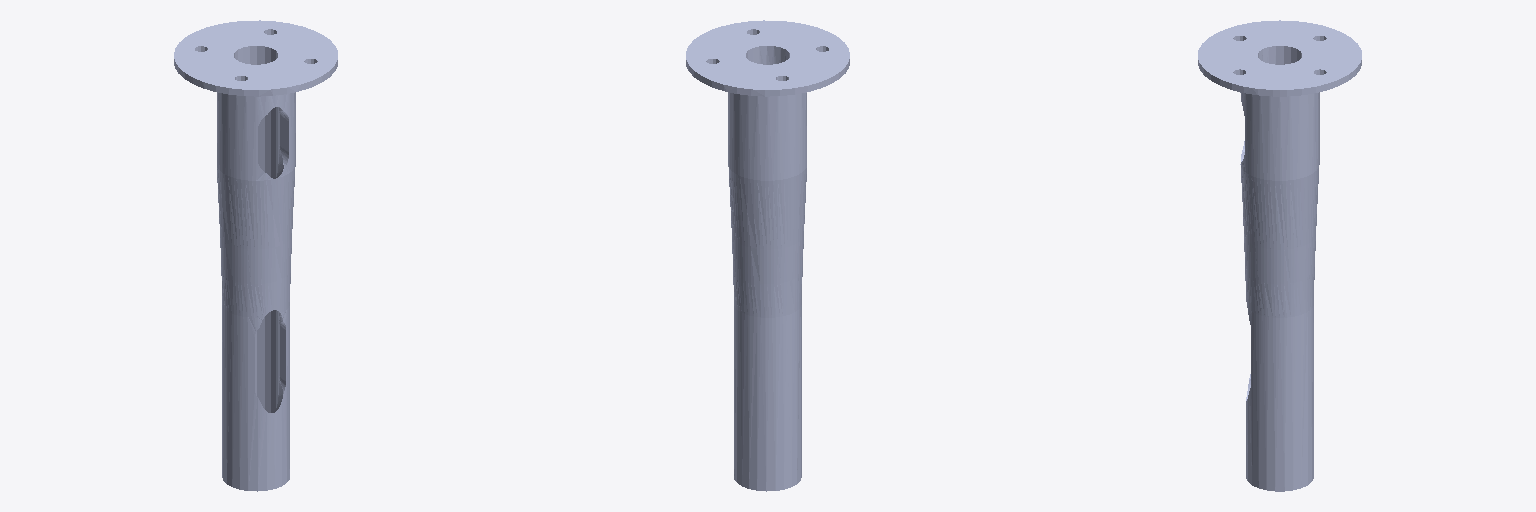
The robot description file, URDF, robot "tool3":
<?xml version="1.0" encoding="utf-8"?>
<!-- This URDF was automatically created by SolidWorks to URDF Exporter! Originally created by Stephen Brawner (brawner@gmail.com) 
     Commit Version: 1.6.0-4-g7f85cfe  Build Version: 1.6.7995.38578
     For more information, please see http://wiki.ros.org/sw_urdf_exporter -->
<robot
  name="tool3">
  <link
    name="base_link">
    <inertial>
      <origin
        xyz="-2.1485E-07 0.0010332 -0.082913"
        rpy="0 0 0" />
      <mass
        value="0.10337" />
      <inertia
        ixx="0.00042423"
        ixy="-1.224E-10"
        ixz="-1.4162E-10"
        iyy="0.0004255"
        iyz="1.9331E-07"
        izz="2.524E-05" />
    </inertial>
    <visual>
      <origin
        xyz="0 0 0"
        rpy="0 0 0" />
      <geometry>
        <mesh
          filename="package://tool3/meshes/base_link.STL" />
      </geometry>
      <material
        name="">
        <color
          rgba="0.79216 0.81961 0.93333 1" />
      </material>
    </visual>
    <collision>
      <origin
        xyz="0 0 0"
        rpy="0 0 0" />
      <geometry>
        <mesh
          filename="package://tool3/meshes/base_link.STL" />
      </geometry>
    </collision>
  </link>
</robot>

--- Render facts (derived) ---
3 views of the same robot in one strip: view 1: azimuth 30°, elevation 25°; view 2: azimuth 150°, elevation 25°; view 3: azimuth 270°, elevation 25° (orthographic).
Robot: tool3 — 1 links, 0 joints (none); root link base_link; default pose: every joint at zero.
Visible links, largest first — view 1: base_link; view 2: base_link; view 3: base_link.
Link boxes in pixels (left/top/right/bottom): base_link: left=174, top=20, right=337, bottom=491; base_link: left=686, top=20, right=849, bottom=491; base_link: left=1198, top=20, right=1361, bottom=491.
Size in the robot's own frame: 0.073 by 0.073 by 0.2062 metres.
Meshes: 1 distinct files referenced, 1 mesh visuals loaded (1 binary STL).
